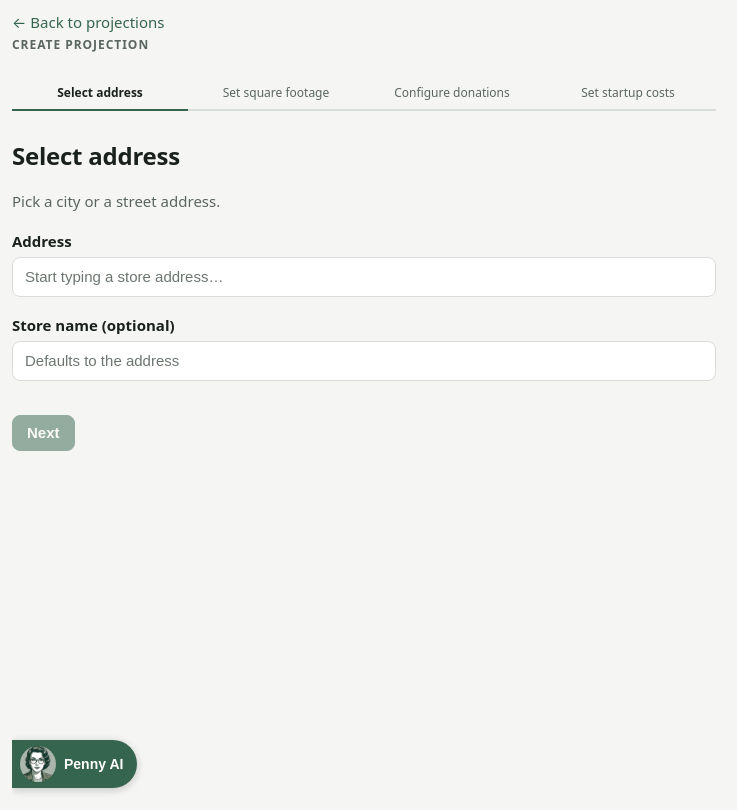
Test: CreateProjectionPage — confirm # of households (§4, owner Decision 25) › shows the resolved count as static text with a pencil edit icon (not an input)
The width and height of the screenshot is (737, 810).
Step 1. Type "Dallas" into the dropdown labelled "Address" → (364, 277), box [12,257,716,297]
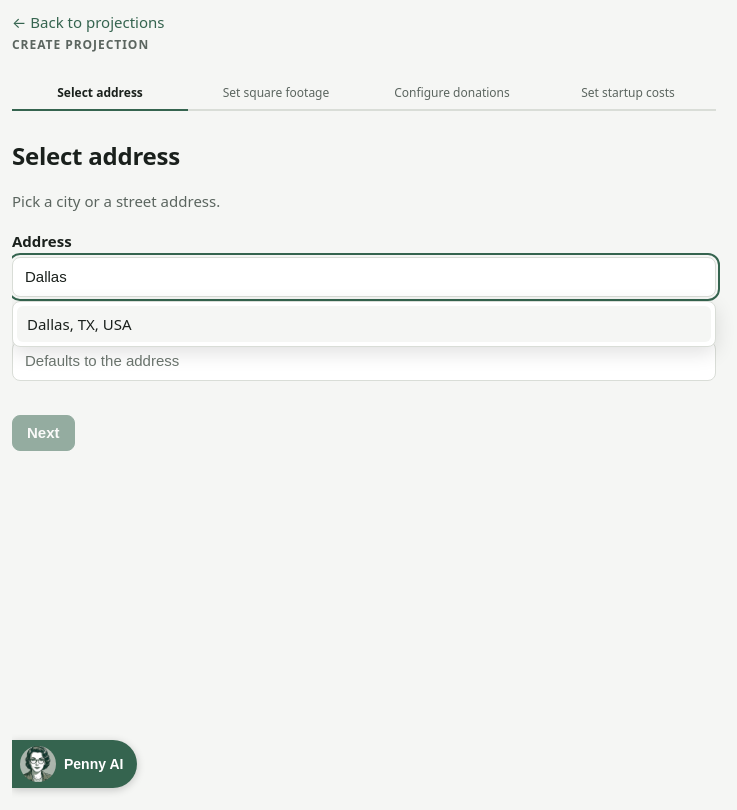
Step 2. Click the option "Dallas, TX, USA" → (79, 324), box [17,306,711,342]
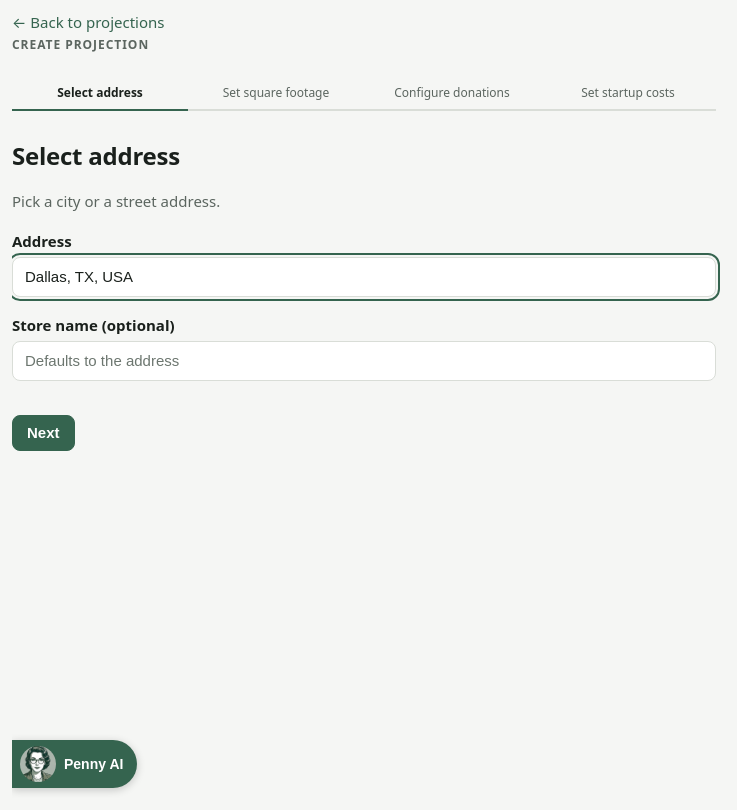
expect the button "Next" is enabled: met
Step 3. Click the button "Next" → (43, 433), box [12,415,74,451]
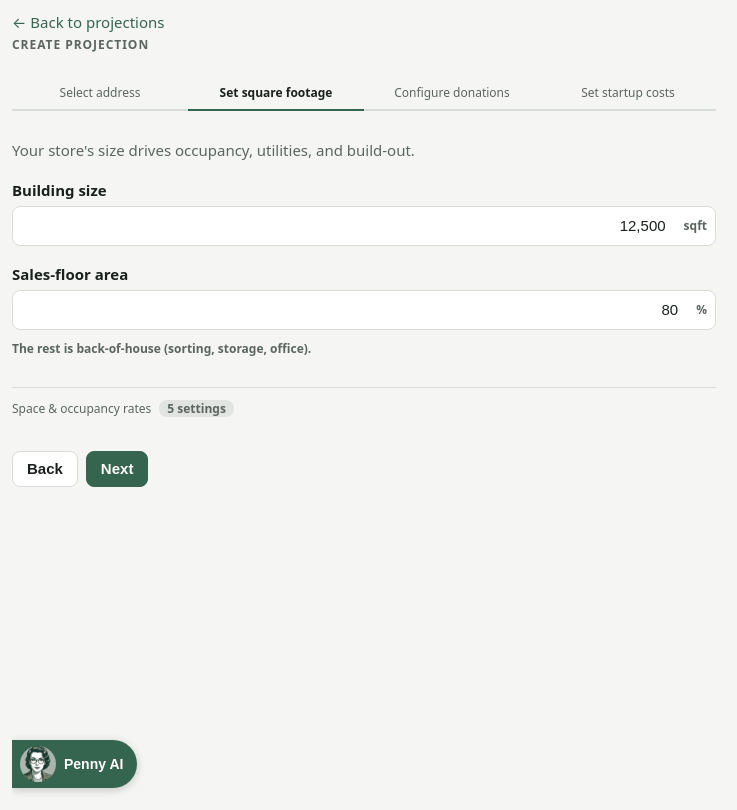
Step 4. Click the button "Next" → (117, 469), box [86,451,148,487]
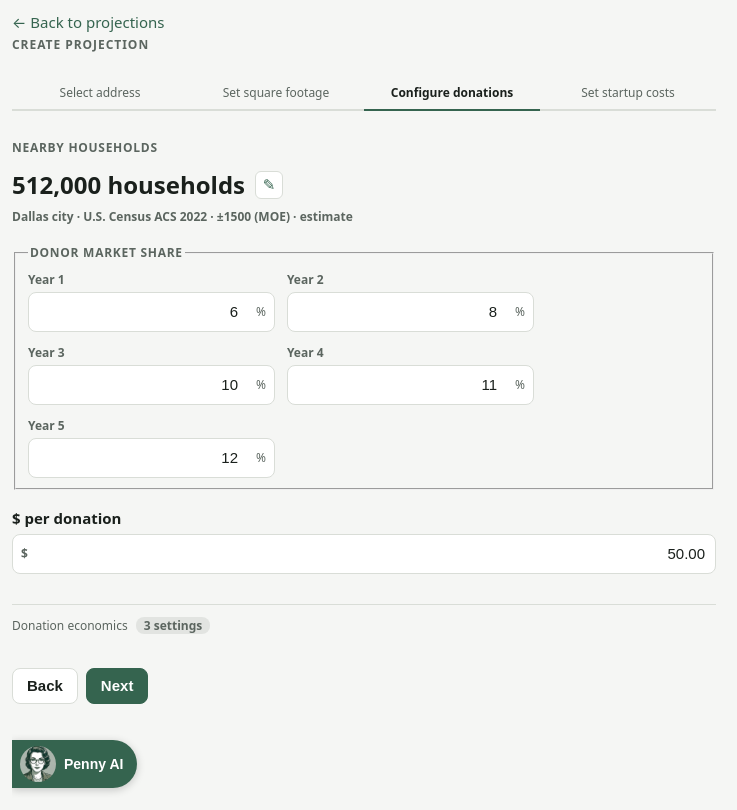
expect the element with test id "households-confirm" shows "512,000 households": met, box [12,168,283,201]
Step 5. Click the button named "edit households" → (269, 185), box [255,171,283,199]
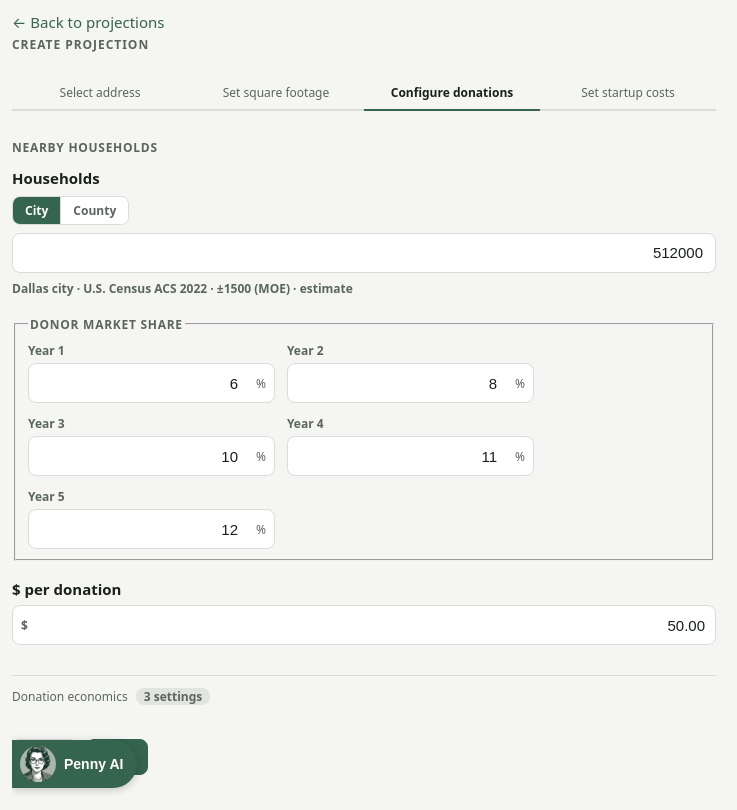
expect the field labelled "Households" is shown: met, box [12,233,716,273]
